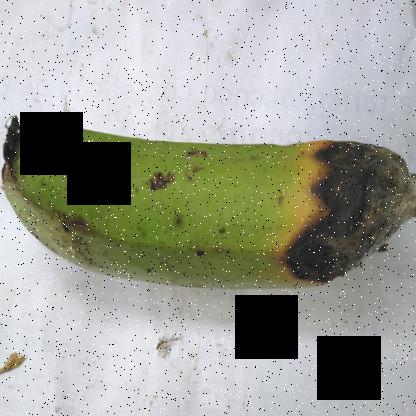rotten: (272, 104, 415, 305), (0, 87, 44, 197)
